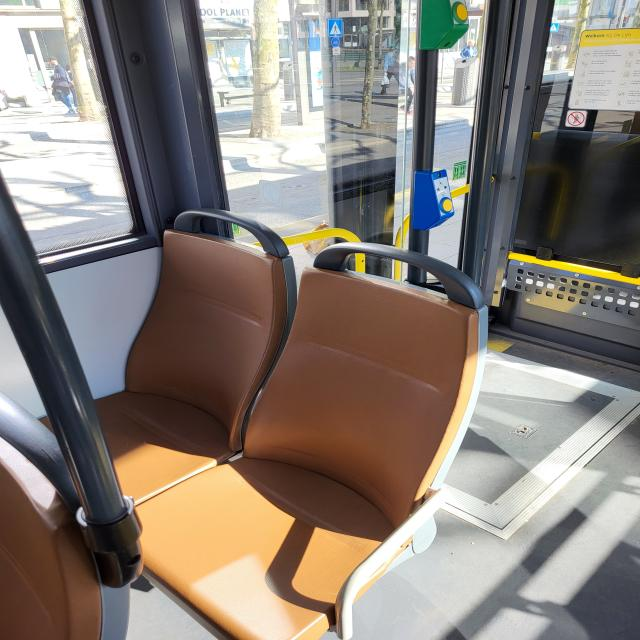empty-seat-frontal: (104, 245, 494, 638), (23, 209, 294, 514)
